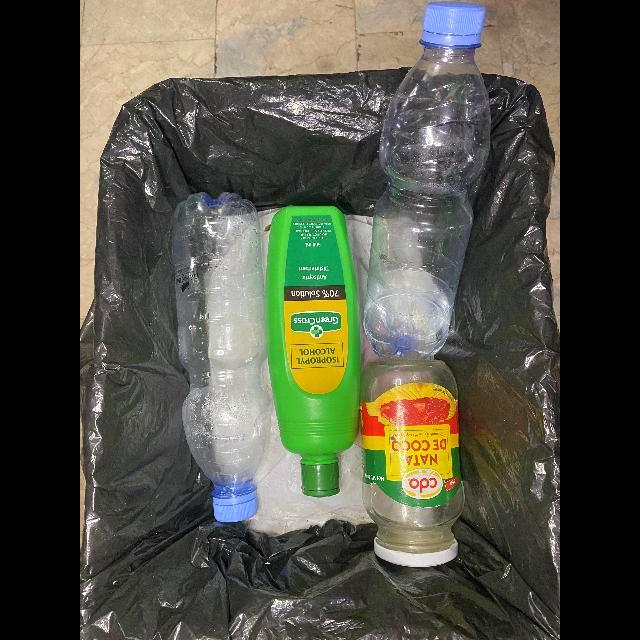glass_bottle: (359, 358, 465, 569)
plastic_bottle: (363, 2, 492, 362), (172, 193, 274, 525), (266, 206, 362, 500)
